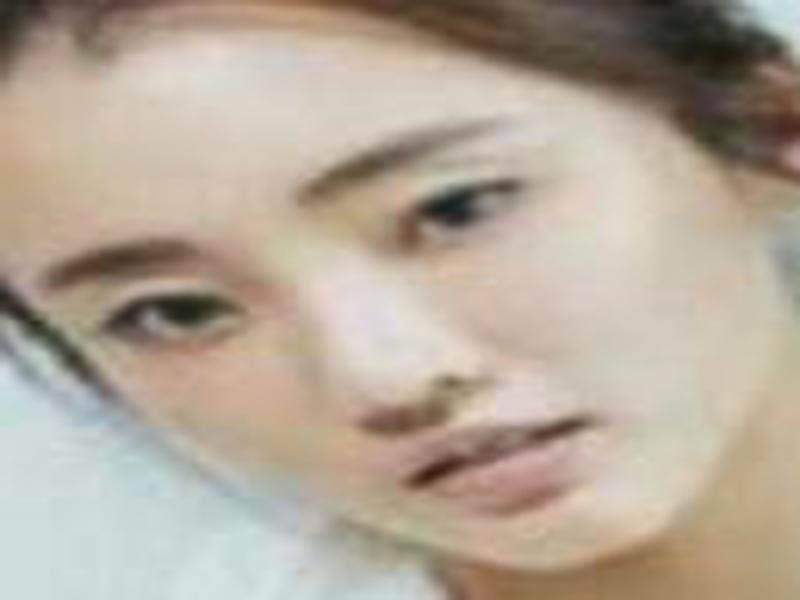without_mask: (1, 68, 780, 570)
